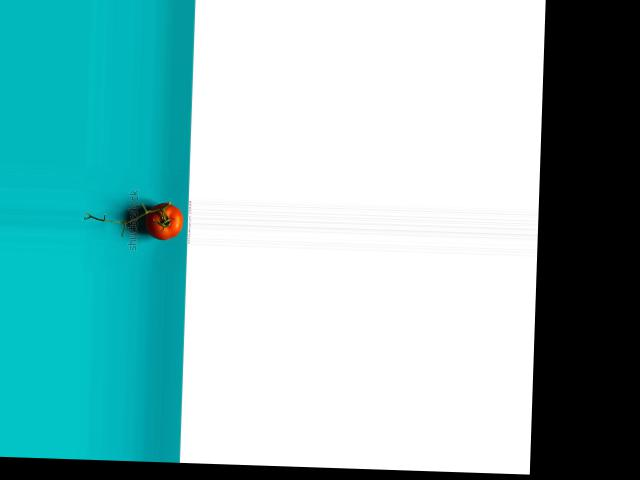tomato: (145, 201, 183, 240)
